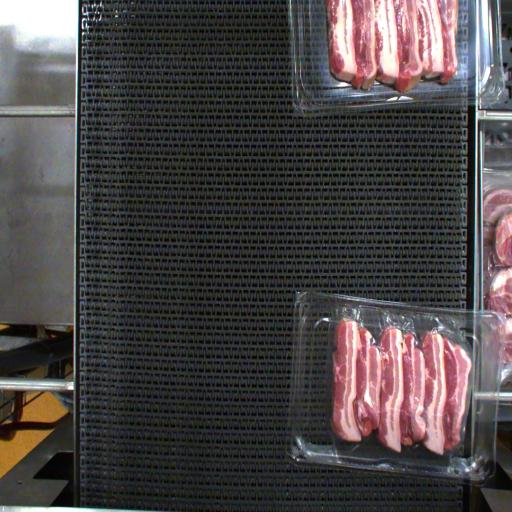unsealed: (327, 300, 477, 464)
